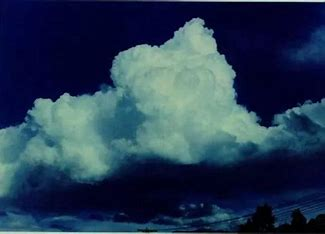Cumulus: (107, 15, 283, 175), (7, 73, 135, 192)
